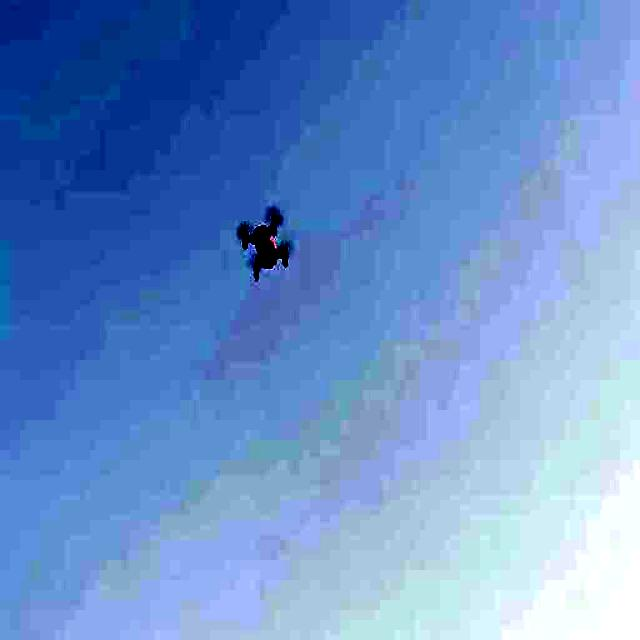bird: (235, 208, 291, 286)
